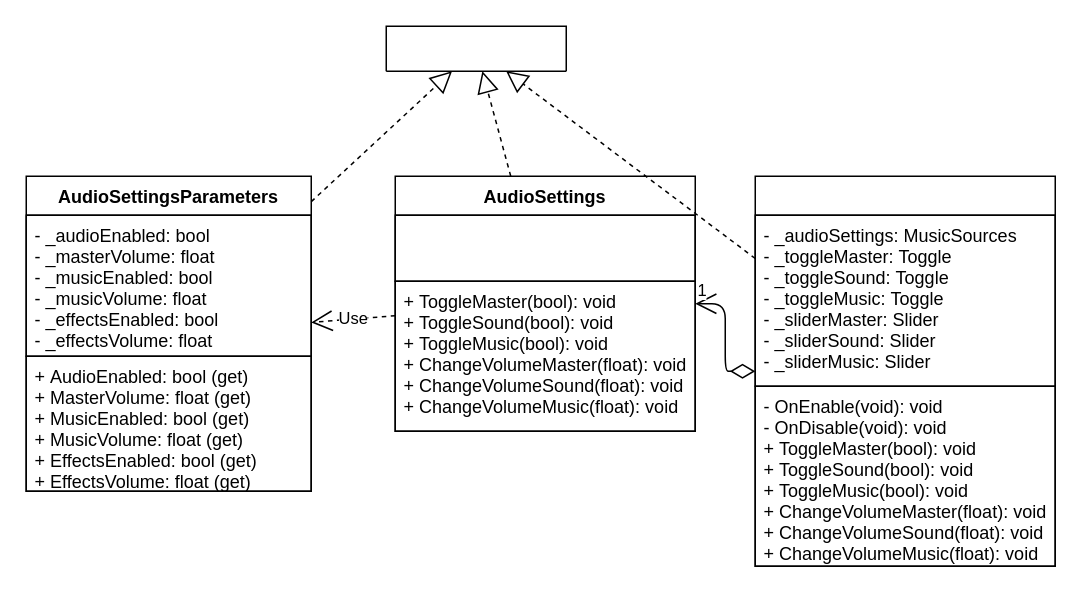
The diagram is 1082 pixels wide and 597 high, and some of its shapes have lost their labels. The shapes that lost their labels are listed below. From the top down, each one's box as (x1, y1, x2, y2) in pixels, then its label:
(385, 25, 566, 71): MonoBehaviour
(394, 214, 695, 281): - _musicSources: MusicSources - _mixer: AudioMixer
(754, 175, 1055, 566): PauseSettings
